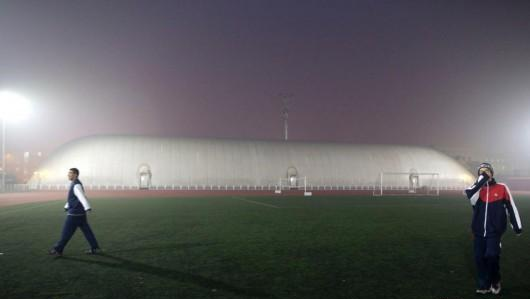person: (464, 160, 523, 298), (46, 166, 102, 256)
